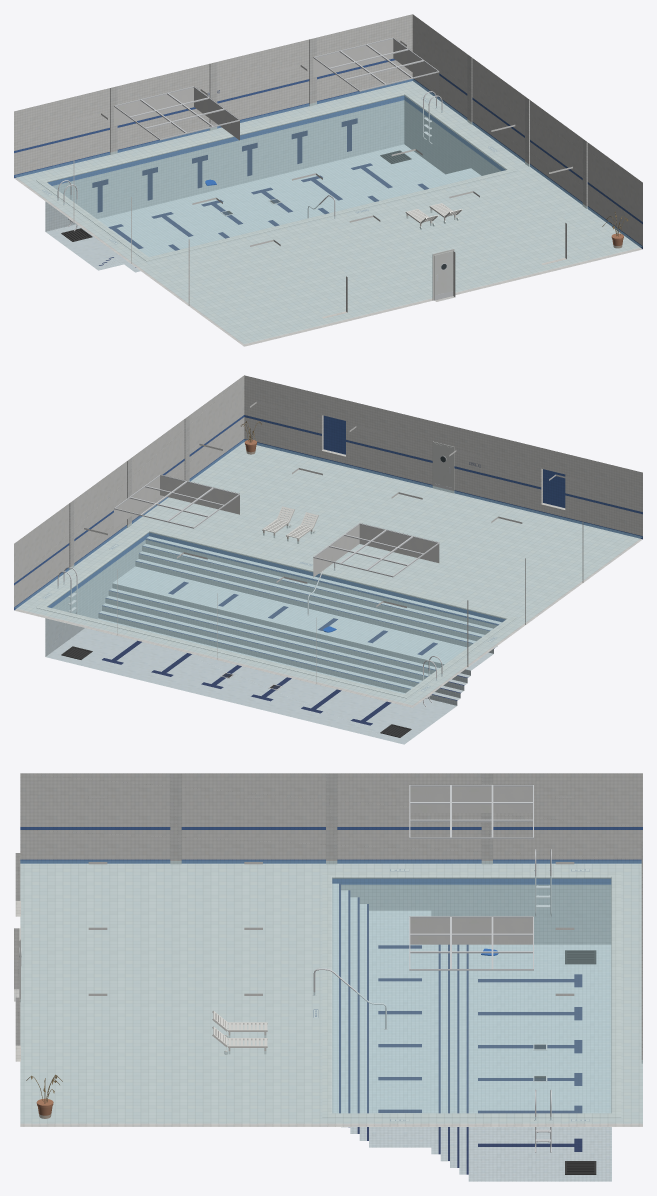
The model's file is sub_pool_09.glb.
3 views of the same model, one above another, from view 1: azimuth 30°, elevation 25°; view 2: azimuth 150°, elevation 25°; view 3: azimuth 270°, elevation 25° (orthographic). The views are drawn at different scales.
Visible parts, largest first — view 1: Pool_Water, Tile_Deck, Tile_Pool, Tile_Wall, Tile_Accent, Ceiling_Paint, Tile_Lip, Tile_Lane, Chrome, Tile_Trim, DoorLeaf_atrium, Plastic_White (+1 smaller); view 2: Pool_Water, Tile_Pool, Tile_Deck, Tile_Wall, Tile_Accent, Ceiling_Paint, Tile_Lane, Tile_Lip, Chrome, Tile_Trim, Plastic_White, DoorLeaf_atrium (+1 smaller); view 3: Pool_Water, Tile_Deck, Tile_Pool, Tile_Wall, Tile_Lip, Tile_Lane, Ceiling_Paint, Tile_Accent, Chrome, Tile_Trim, Plastic_White, Grate_Iron.
Boxes of the visible parts, x1,y1,x2,y2 form: Pool_Water: (15, 79, 641, 343); Tile_Deck: (14, 81, 642, 346); Tile_Pool: (45, 100, 500, 272); Tile_Wall: (14, 14, 642, 312); Tile_Accent: (14, 58, 642, 248); Ceiling_Paint: (77, 38, 579, 246); Tile_Lip: (36, 90, 566, 318); Tile_Lane: (92, 118, 428, 267); Chrome: (57, 37, 443, 231); Tile_Trim: (73, 38, 587, 305); DoorLeaf_atrium: (434, 251, 453, 300); Plastic_White: (405, 203, 462, 229); Pool_Water: (15, 440, 641, 704); Tile_Pool: (45, 536, 501, 744); Tile_Deck: (14, 442, 642, 707); Tile_Wall: (14, 375, 642, 606); Tile_Accent: (14, 415, 642, 625); Ceiling_Paint: (77, 401, 579, 607); Tile_Lane: (99, 538, 498, 725); Tile_Lip: (36, 449, 565, 698); Chrome: (57, 474, 442, 706); Tile_Trim: (69, 416, 583, 683); Plastic_White: (262, 506, 318, 543); DoorLeaf_atrium: (434, 443, 452, 492); Pool_Water: (20, 860, 642, 1123); Tile_Deck: (14, 863, 642, 1126); Tile_Pool: (332, 883, 611, 1181); Tile_Wall: (14, 773, 642, 1045); Tile_Lip: (15, 872, 621, 1117); Tile_Lane: (339, 883, 582, 1174); Ceiling_Paint: (88, 784, 574, 995); Tile_Accent: (20, 827, 642, 884); Chrome: (313, 785, 552, 1152); Tile_Trim: (170, 774, 642, 1063); Plastic_White: (212, 1010, 267, 1054); Grate_Iron: (534, 950, 596, 1174).
Bounding box in the file's own units: 20 × 6.6 × 20.2.
20 materials, 10 textured.
